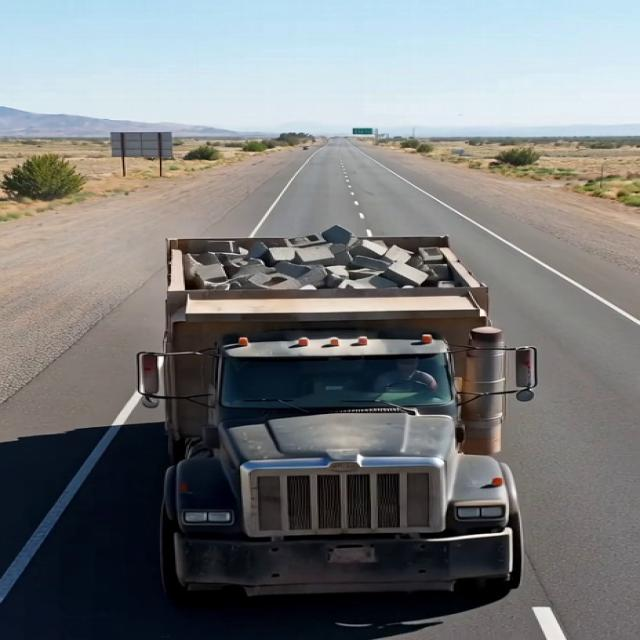Box: (153, 234, 528, 322)
Truck: (151, 209, 583, 606)
